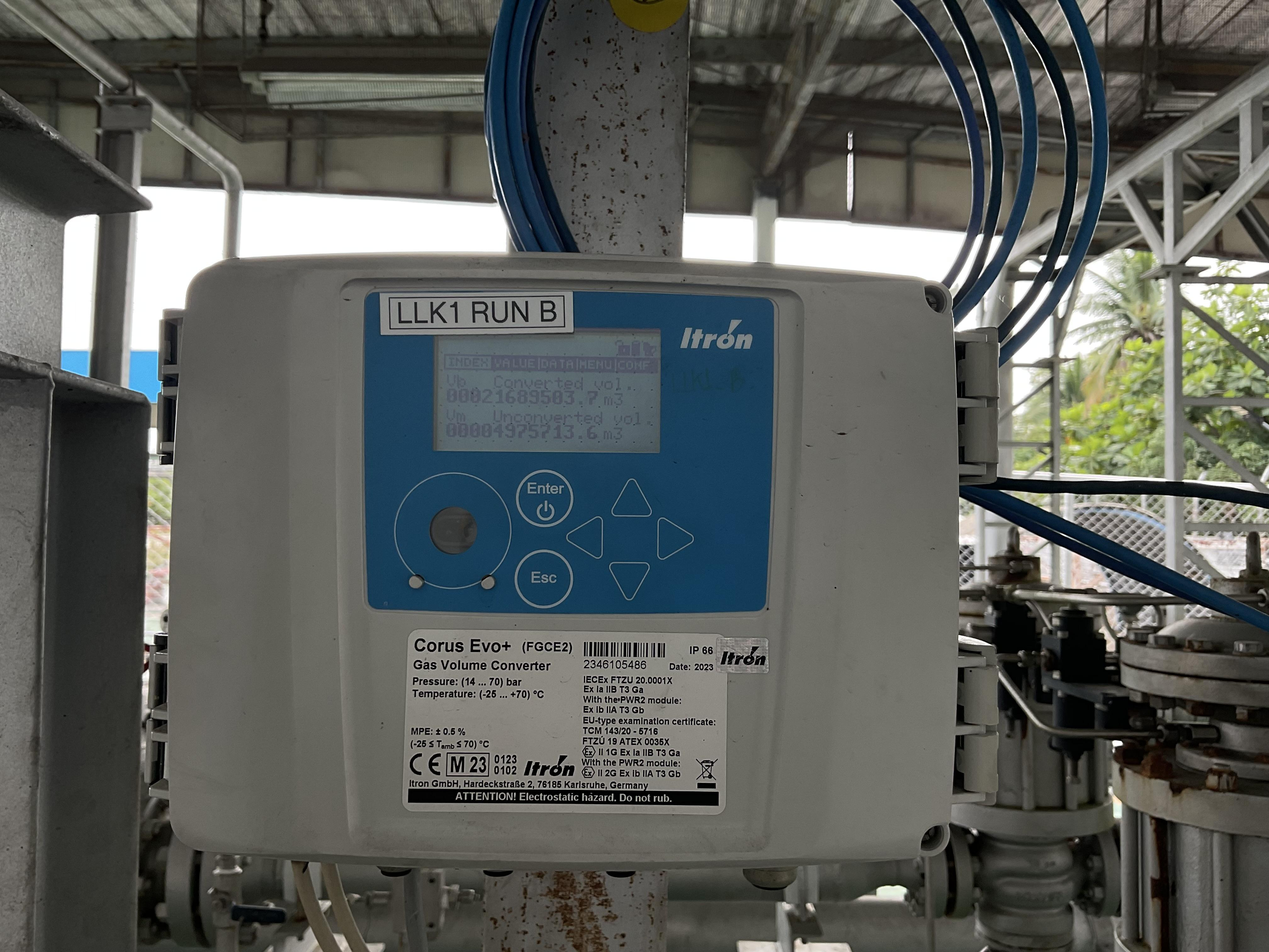digital_screen: (433, 325, 662, 453)
